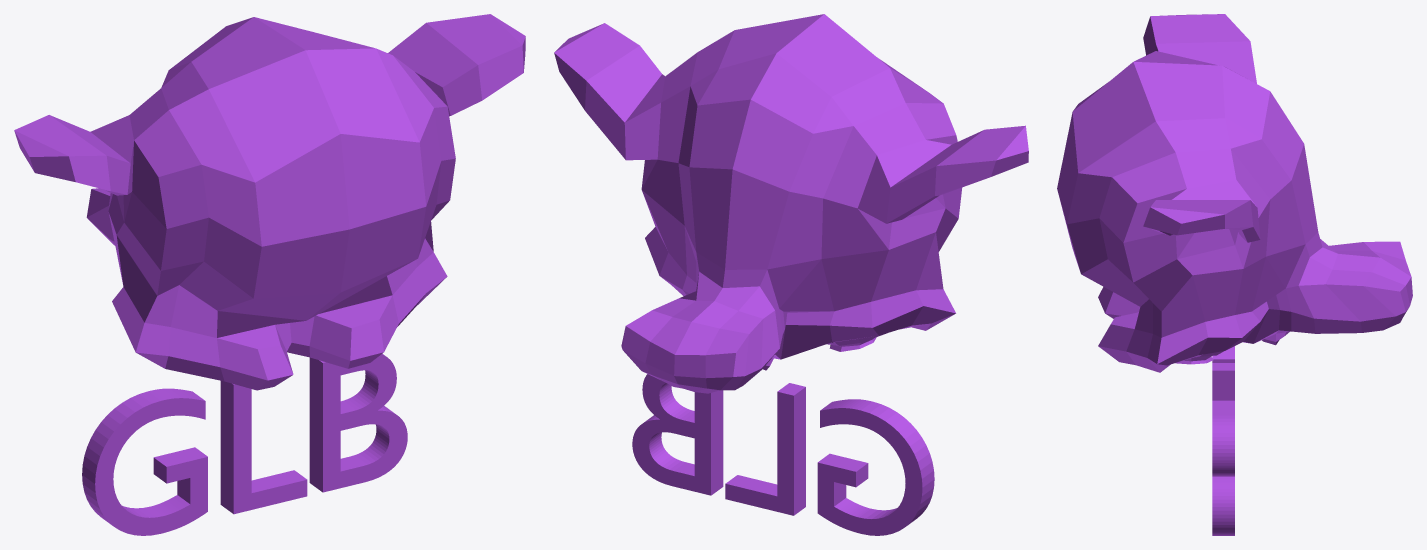
The model's file is suz.glb.
3 views of the same model, side by side, from view 1: azimuth 30°, elevation 25°; view 2: azimuth 150°, elevation 25°; view 3: azimuth 270°, elevation 25° (orthographic). The views are drawn at different scales.
Visible parts, largest first — view 1: Suzanne; view 2: Suzanne; view 3: Suzanne.
Part boxes in pixels (box(x1,y1,x2,y2)): Suzanne: box(14, 14, 525, 535); Suzanne: box(554, 14, 1028, 535); Suzanne: box(1057, 14, 1412, 535).
Size of the model in its own units: 2.73 by 2.6 by 1.97.
